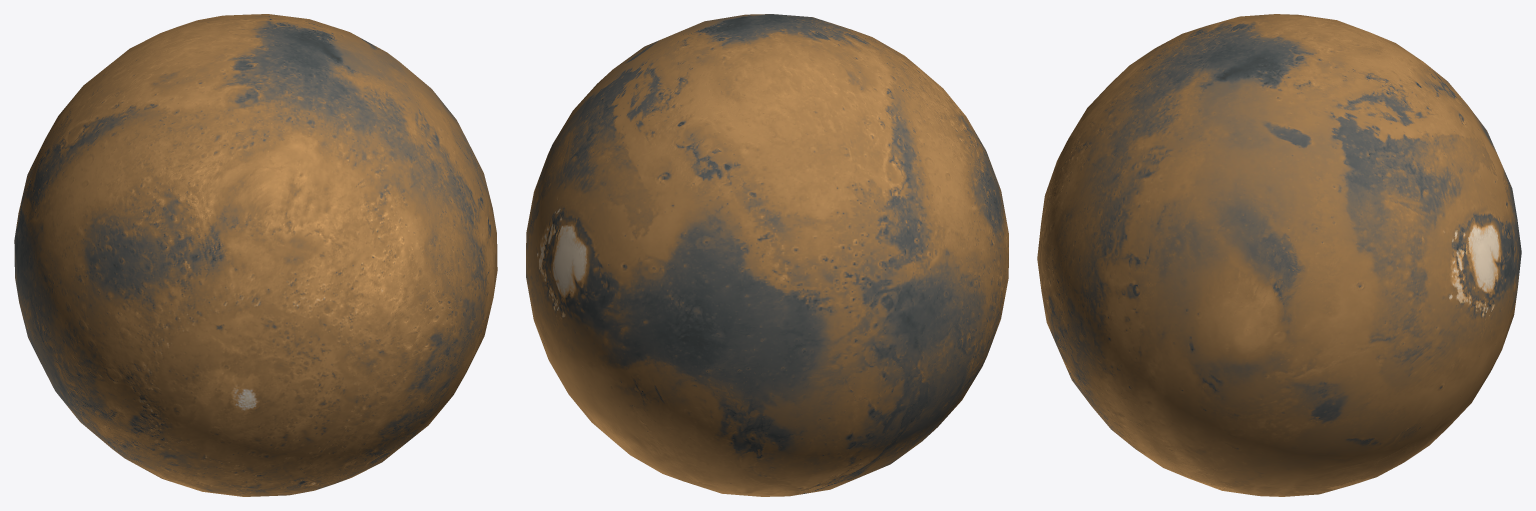
Rendered from Mars_2K.obj.
The picture shows the model from 3 angles, left to right: view 1: azimuth 30°, elevation 25°; view 2: azimuth 150°, elevation 25°; view 3: azimuth 270°, elevation 25°; orthographic projection.
Visible parts, largest first — view 1: Atmosphere_Cube.010; view 2: Atmosphere_Cube.010; view 3: Atmosphere_Cube.010.
Part boxes in pixels (<box>): Atmosphere_Cube.010: <box>14,14,497,496</box>; Atmosphere_Cube.010: <box>526,14,1008,496</box>; Atmosphere_Cube.010: <box>1037,14,1521,496</box>.
Size of the model in its own units: 6.85 by 6.84 by 6.86.
